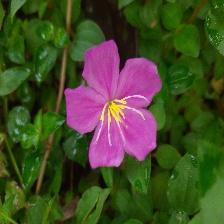malabar melastome: (63, 37, 164, 170)
